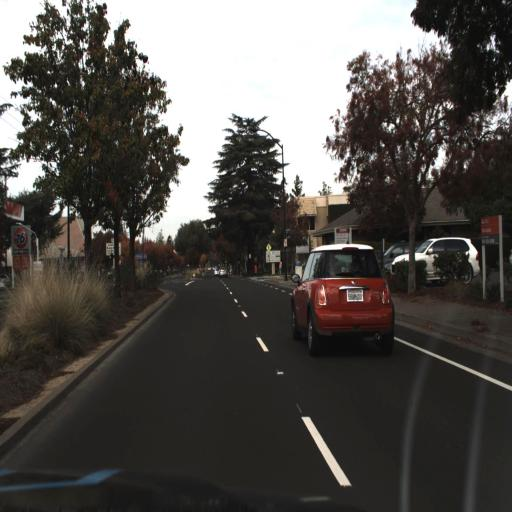car: (291, 243, 394, 353), (390, 231, 486, 295), (392, 236, 479, 283), (218, 265, 229, 278)
